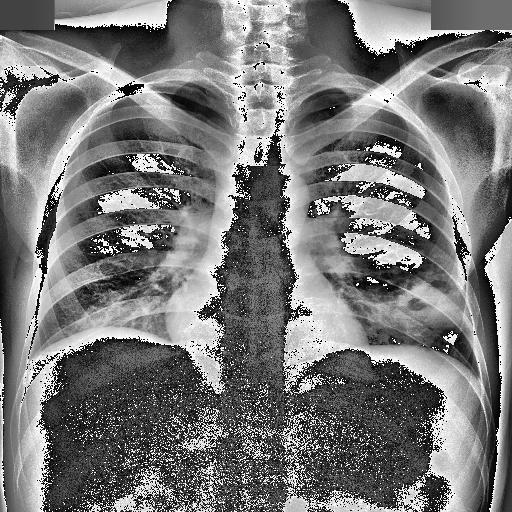11- Pleural thickening: (326, 88, 394, 108), (150, 80, 202, 88)
4- Consolidation: (361, 262, 473, 336), (384, 266, 476, 326)
7- Lung Opacity: (376, 273, 468, 331)
